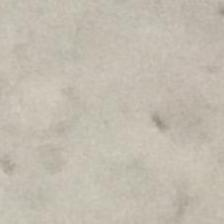Non_Crack: (19, 9, 224, 191)
